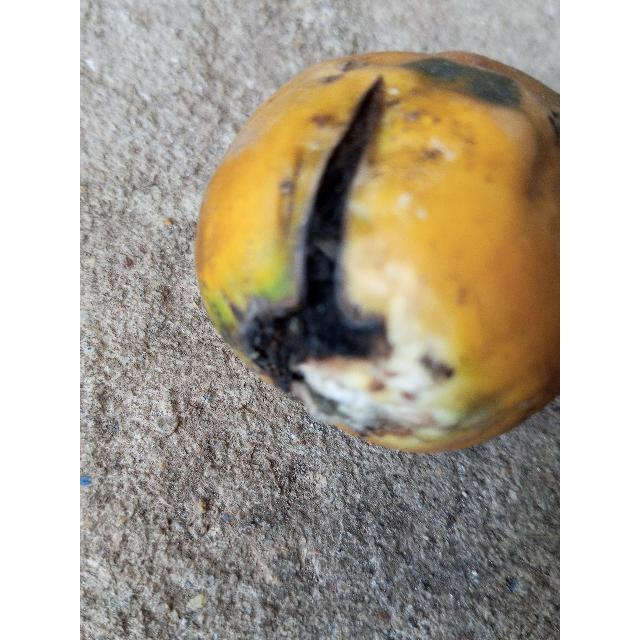damaged: (194, 51, 560, 457)
